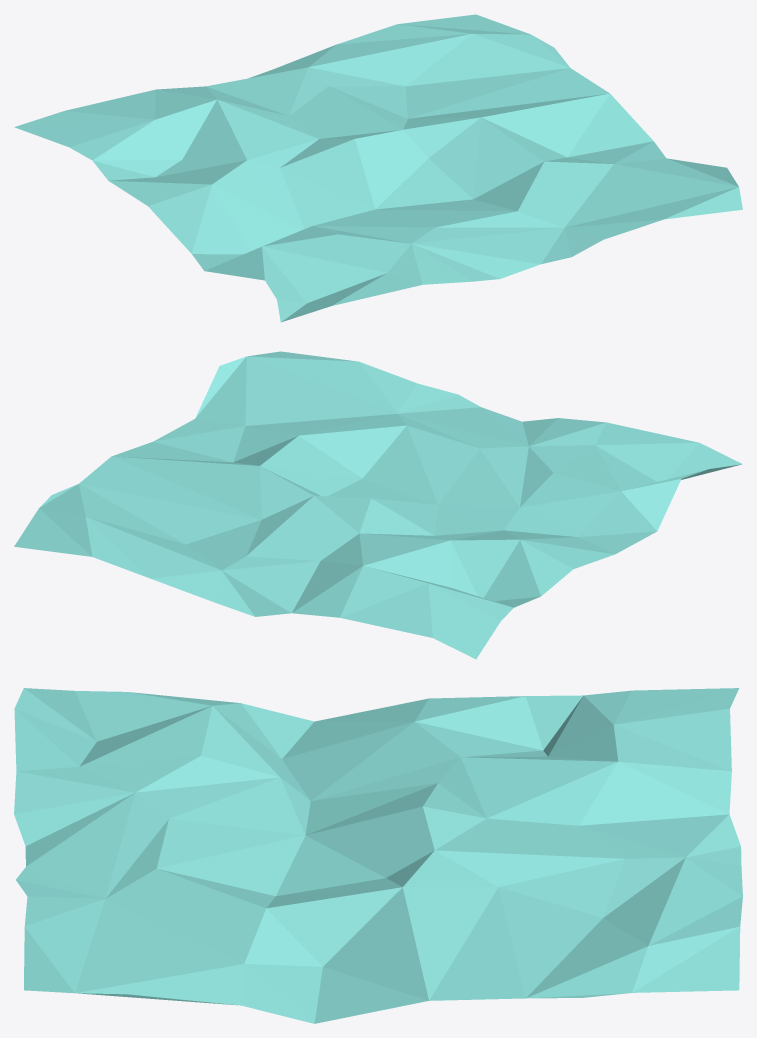
The model's file is Sea.fbx.
3 renders of one model, top to bottom at view 1: azimuth 30°, elevation 25°; view 2: azimuth 150°, elevation 25°; view 3: azimuth 270°, elevation 25°, orthographic. The views are drawn at different scales.
Visible parts, largest first — view 1: Sea; view 2: Sea; view 3: Sea.
Part boxes in pixels (box(x1,y1,x2,y2)): Sea: box(14, 14, 742, 322); Sea: box(14, 351, 742, 659); Sea: box(14, 688, 742, 1023).
Bounding box in the file's own units: 4.2 × 0.3484 × 4.08.
